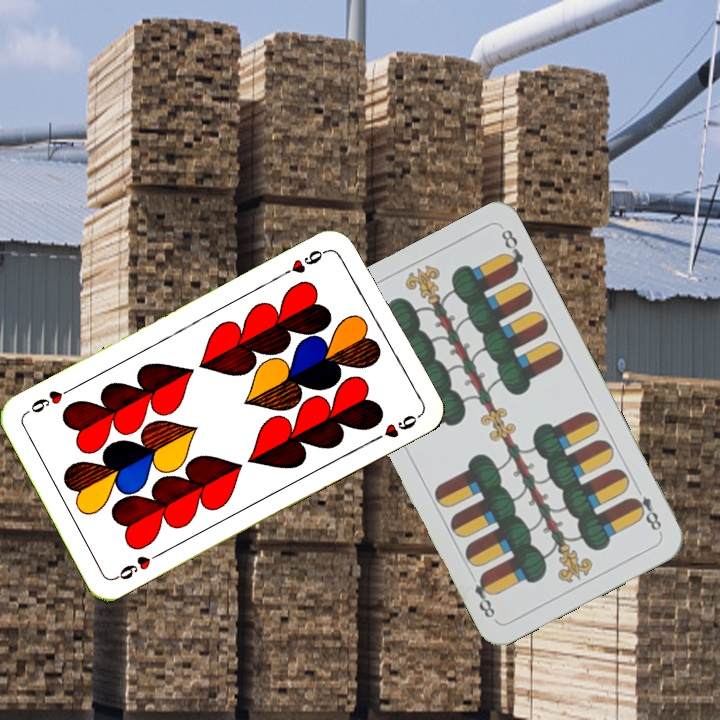E8: (627, 481, 664, 536)
H9: (111, 547, 165, 583), (278, 245, 332, 279)
